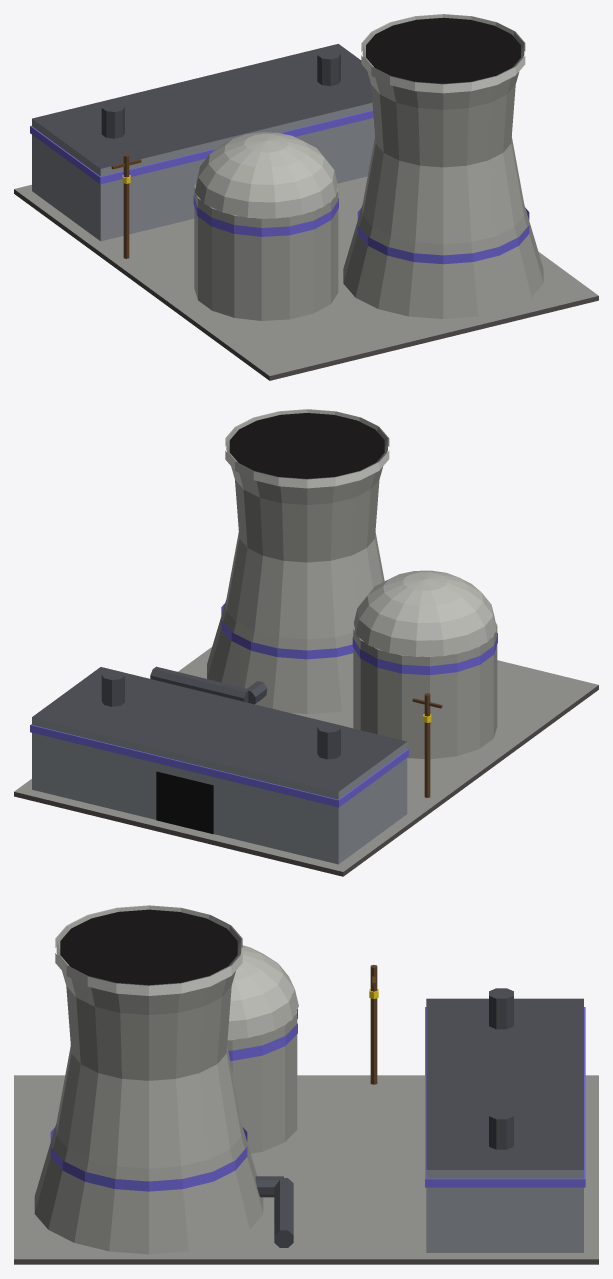
Rendered from fission_reactor.glb.
The picture shows the model from 3 angles, top to bottom: view 1: azimuth 30°, elevation 25°; view 2: azimuth 150°, elevation 25°; view 3: azimuth 270°, elevation 25°; orthographic projection. The views are drawn at different scales.
Visible parts, largest first — view 1: fission_reactor; view 2: fission_reactor; view 3: fission_reactor.
Boxes of the visible parts, x1,y1,x2,y2 form: fission_reactor: [14, 14, 598, 380]; fission_reactor: [14, 409, 598, 876]; fission_reactor: [14, 905, 598, 1264].
Size of the model in its own units: 5.8 by 3.9 by 7.8.
